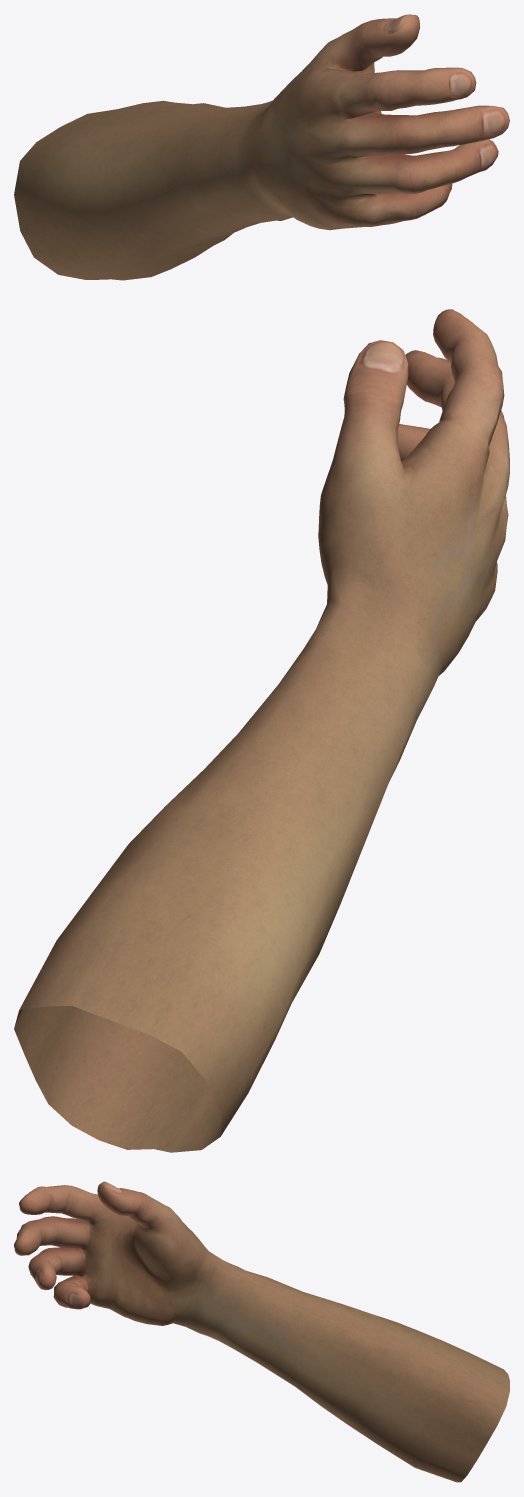
The model's file is arms1fbx.fbx.
The picture shows the model from 3 angles, top to bottom: view 1: azimuth 30°, elevation 25°; view 2: azimuth 150°, elevation 25°; view 3: azimuth 270°, elevation 25°; orthographic projection. The views are drawn at different scales.
Visible parts, largest first — view 1: arms; view 2: arms; view 3: arms.
Boxes of the visible parts, <box> form: arms: <box>14,14,509,280</box>; arms: <box>14,309,509,1152</box>; arms: <box>14,1181,509,1482</box>.
Bounding box in the file's own units: 40.14 × 89.51 × 129.
1 material, 1 textured.
